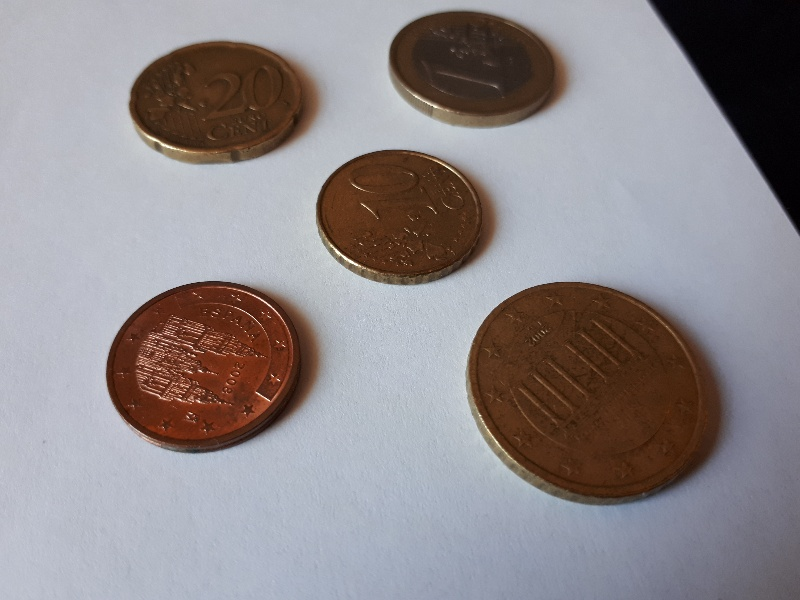1 euro: (384, 10, 564, 130)
10 cent: (315, 147, 490, 288)
20 cent: (125, 37, 307, 169)
5 cent: (105, 278, 305, 456)
50 cent: (463, 278, 722, 508)
